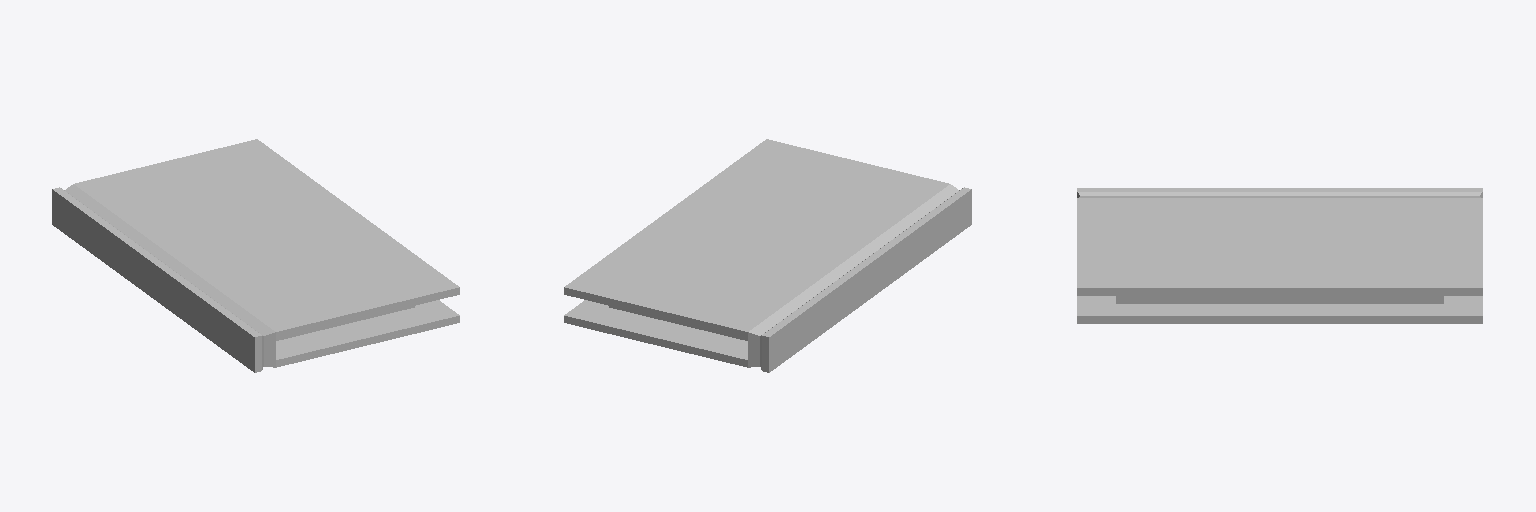
Rendered from Book.obj.
3 renders of one model, left to right at view 1: azimuth 30°, elevation 25°; view 2: azimuth 150°, elevation 25°; view 3: azimuth 270°, elevation 25°, orthographic.
Parts seen in each view (by area): view 1: Book; view 2: Book; view 3: Book.
Part boxes in pixels (left/top/right/bottom): Book: left=52, top=139, right=459, bottom=372; Book: left=564, top=139, right=971, bottom=372; Book: left=1077, top=188, right=1482, bottom=323.
Bounding box in the file's own units: 0.1664 × 0.0276 × 0.2844.